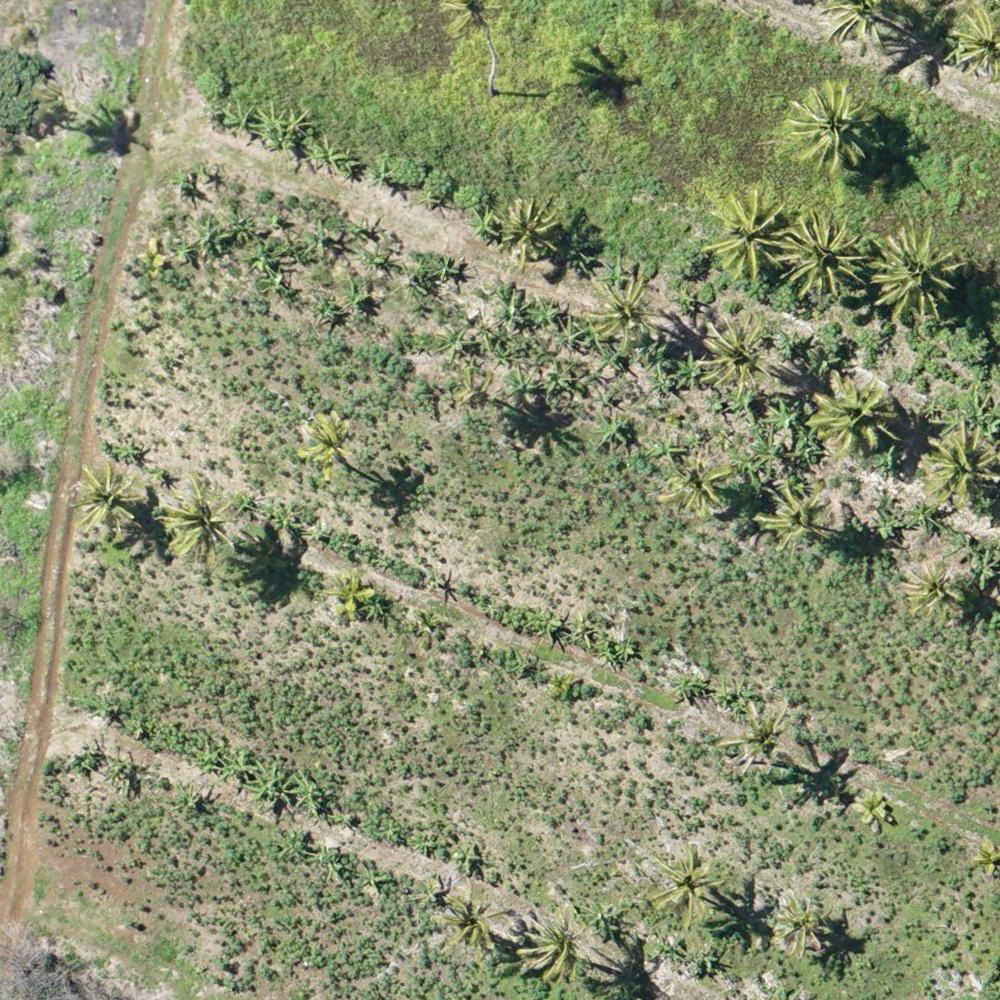Palm: (870, 226, 961, 317), (788, 85, 878, 171), (812, 371, 902, 457), (784, 211, 865, 305), (706, 191, 792, 279), (155, 480, 242, 561), (642, 849, 729, 930), (697, 311, 778, 396), (514, 906, 593, 982), (926, 427, 999, 508), (587, 272, 666, 343), (720, 701, 793, 772), (74, 465, 142, 533), (432, 889, 497, 955), (497, 195, 562, 260), (775, 897, 830, 955), (297, 418, 356, 471), (326, 568, 381, 617)
